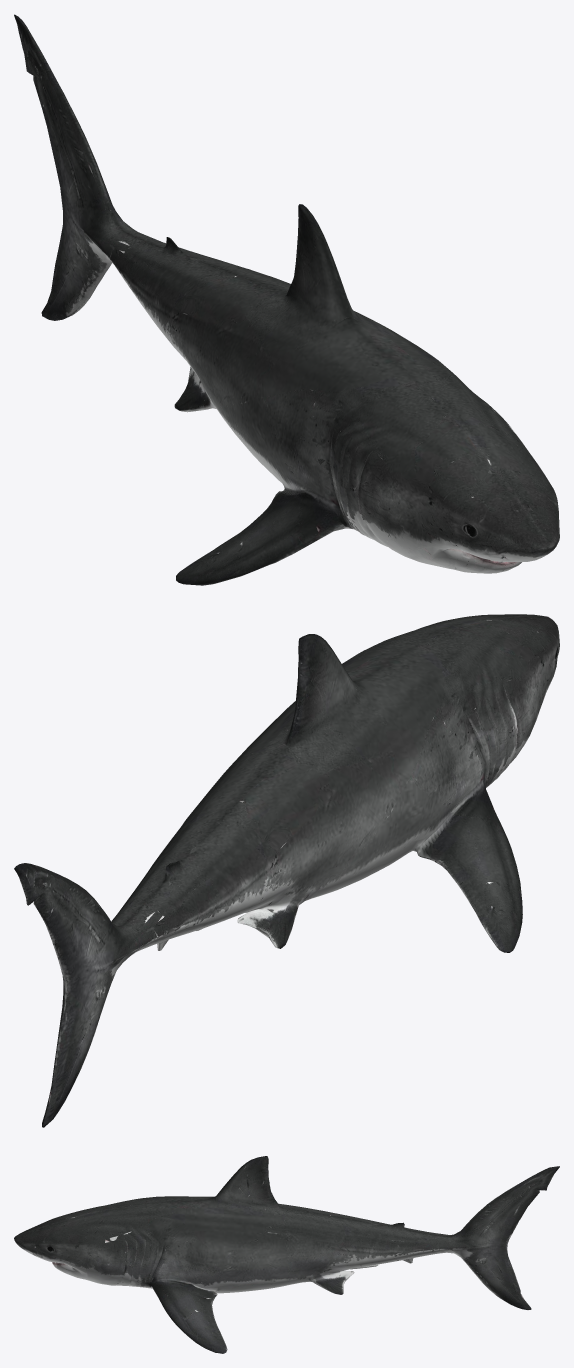
File: weisser_hai.glb
The picture shows the model from 3 angles, top to bottom: view 1: azimuth 30°, elevation 25°; view 2: azimuth 150°, elevation 25°; view 3: azimuth 270°, elevation 25°; orthographic projection. The views are drawn at different scales.
Size of the model in its own units: 0.6895 by 0.6004 by 1.9.
1 material, 1 textured.
